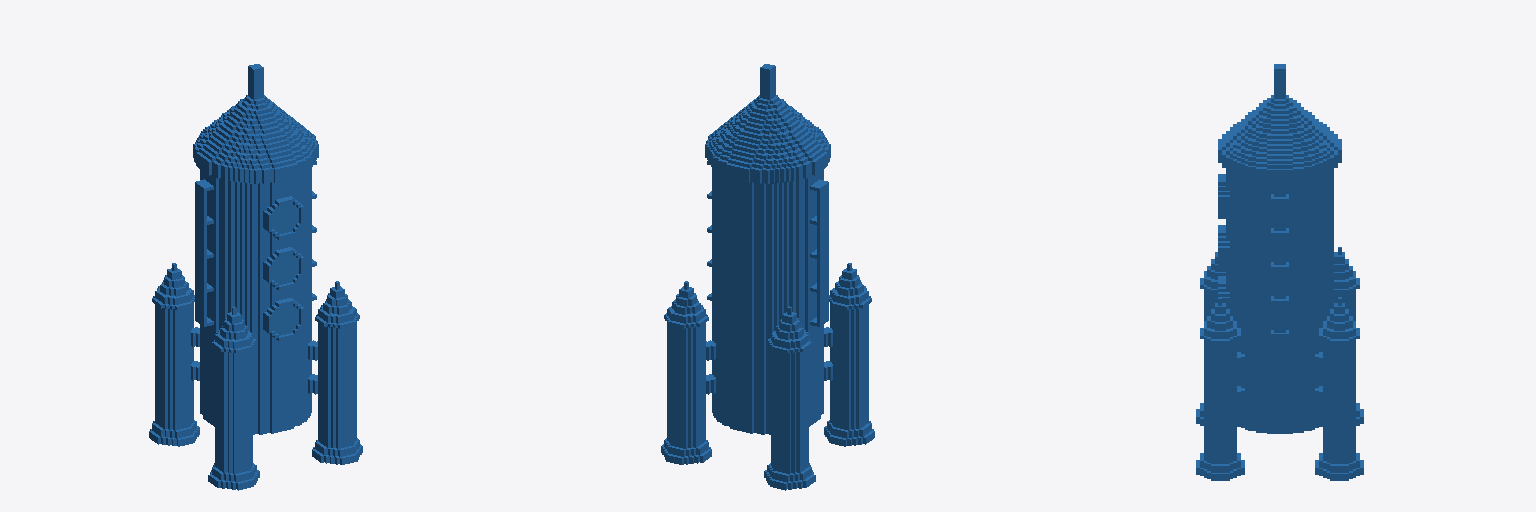
The picture shows the model from 3 angles: view 1: azimuth 30°, elevation 25°; view 2: azimuth 150°, elevation 25°; view 3: azimuth 270°, elevation 25°; orthographic projection.
Visible parts, largest first — view 1: object 1; view 2: object 1; view 3: object 1.
Part boxes in pixels (x1,y1,x2,y2): object 1: (149, 64, 362, 490); object 1: (661, 64, 874, 490); object 1: (1196, 64, 1363, 480).
Size of the model in its own units: 4.5 by 11.2 by 4.5.
Materials: 1 (1 with a texture image).